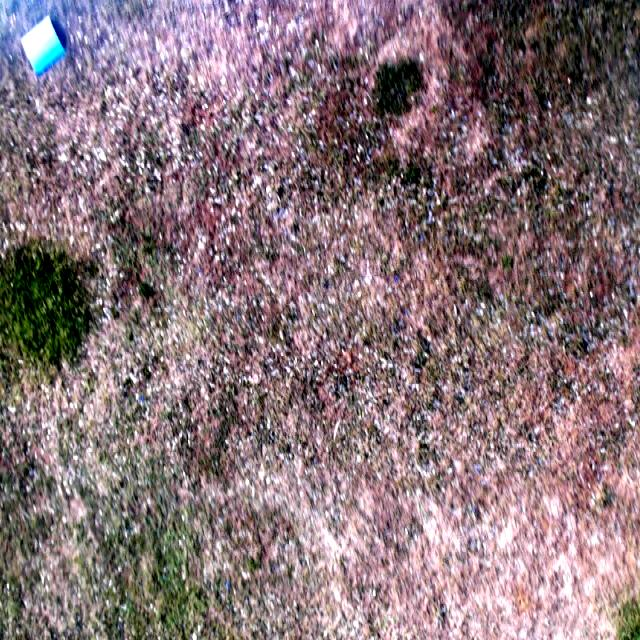blue_square: (20, 15, 64, 74)
